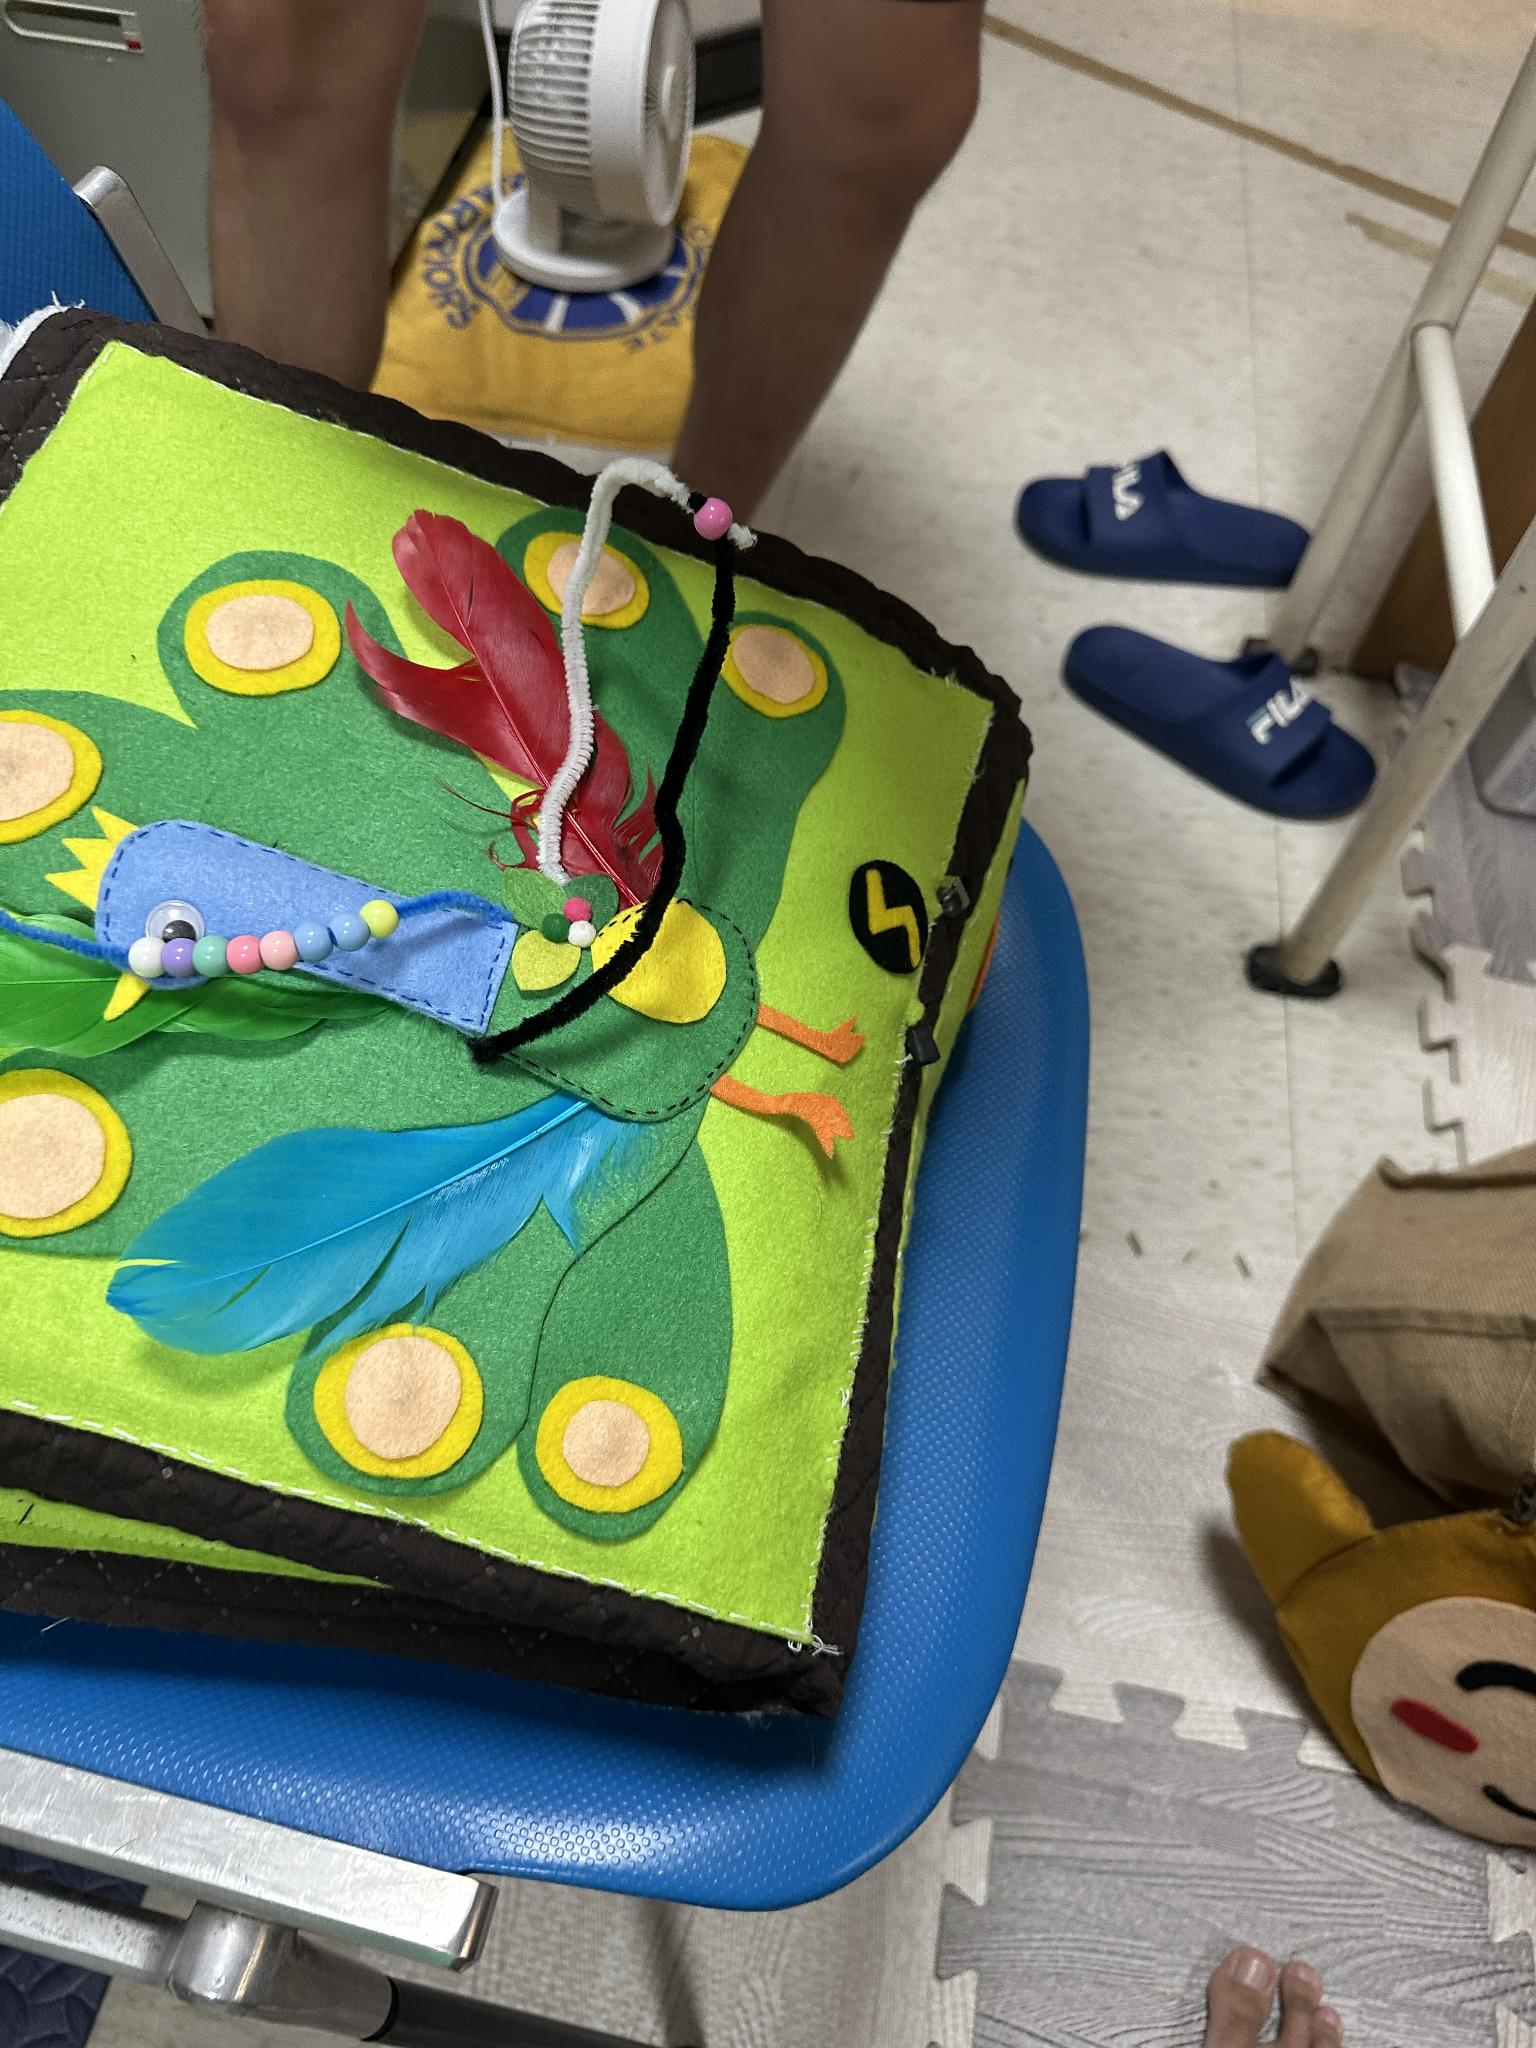bead: (681, 487, 736, 545), (124, 927, 163, 982), (295, 919, 331, 966), (226, 930, 260, 977), (328, 911, 366, 951), (363, 893, 397, 935), (265, 927, 292, 977), (195, 935, 223, 982), (166, 934, 192, 980)
